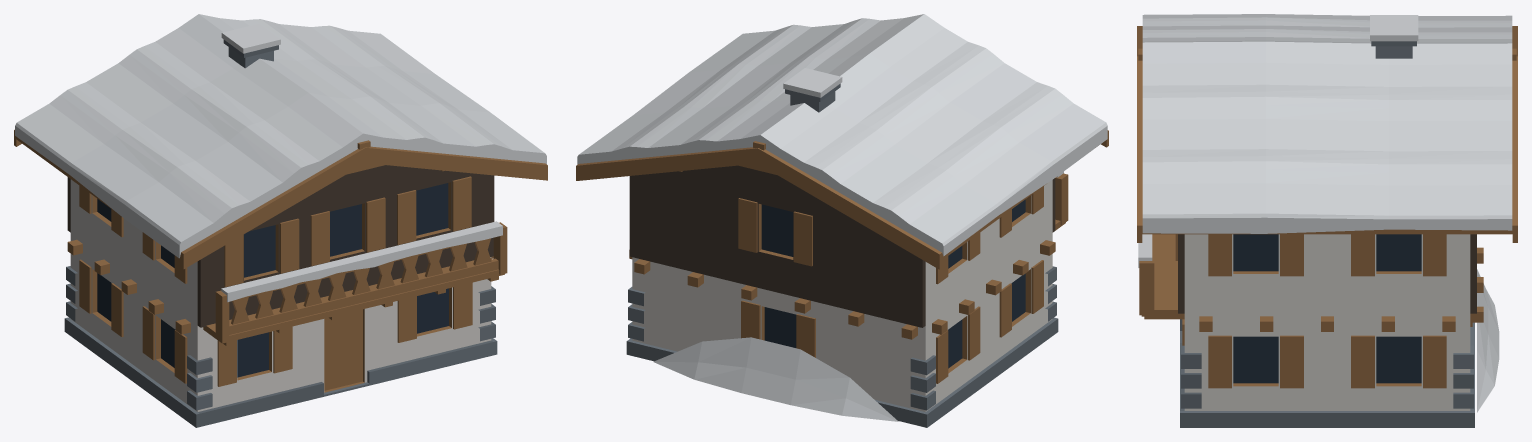
File: alpine-chalet-47d59e.glb
3 views of the same model, side by side, from view 1: azimuth 30°, elevation 25°; view 2: azimuth 150°, elevation 25°; view 3: azimuth 270°, elevation 25° (orthographic). The views are drawn at different scales.
Visible parts, largest first — view 1: alpine-chalet, door; view 2: alpine-chalet; view 3: alpine-chalet.
Part boxes in pixels (x1=…): alpine-chalet: x1=14, y1=14, x2=547, y2=427; door: x1=324, y1=309, x2=362, y2=390; alpine-chalet: x1=576, y1=14, x2=1108, y2=427; alpine-chalet: x1=1137, y1=14, x2=1517, y2=427.
Size of the model in its own units: 10 by 7.42 by 8.
